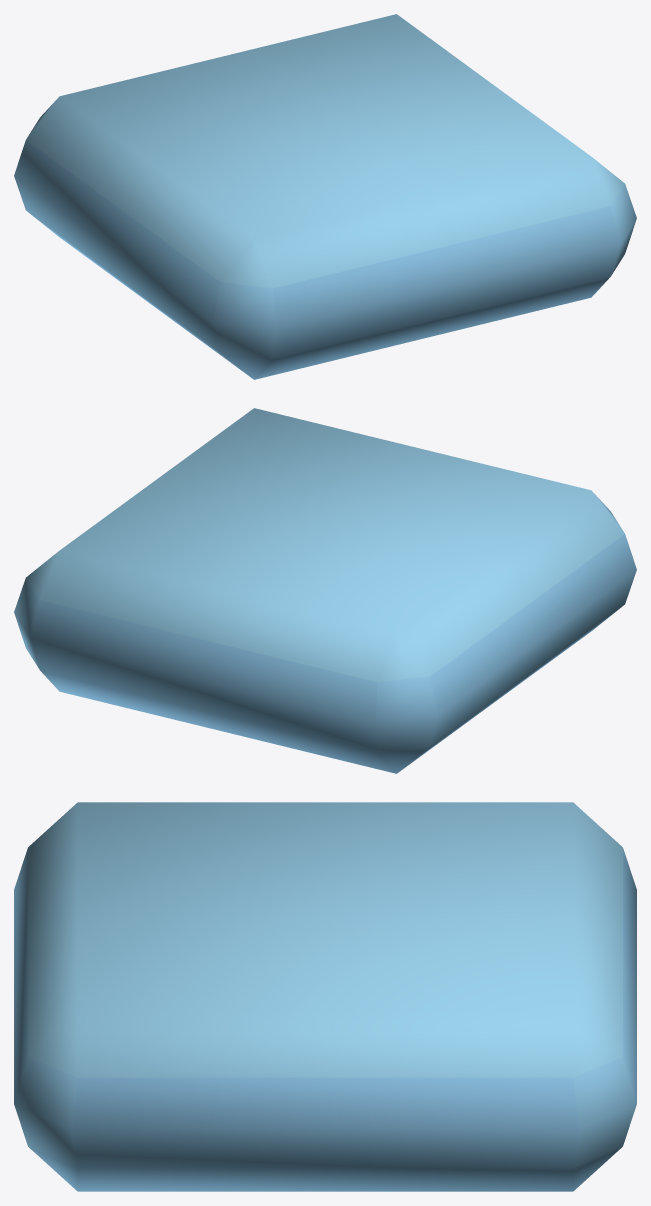
Rendered from handduk.glb.
3 renders of one model, top to bottom at view 1: azimuth 30°, elevation 25°; view 2: azimuth 150°, elevation 25°; view 3: azimuth 270°, elevation 25°, orthographic. The views are drawn at different scales.
Parts seen in each view (by area): view 1: towel_blue; view 2: towel_blue; view 3: towel_blue.
Boxes of the visible parts, x1,y1,x2,y2 form: towel_blue: (14, 14, 636, 379); towel_blue: (14, 408, 636, 773); towel_blue: (14, 802, 636, 1191).
Size of the model in its own units: 0.6284 by 0.2 by 0.6284.
Materials: 1 (1 with a texture image).
